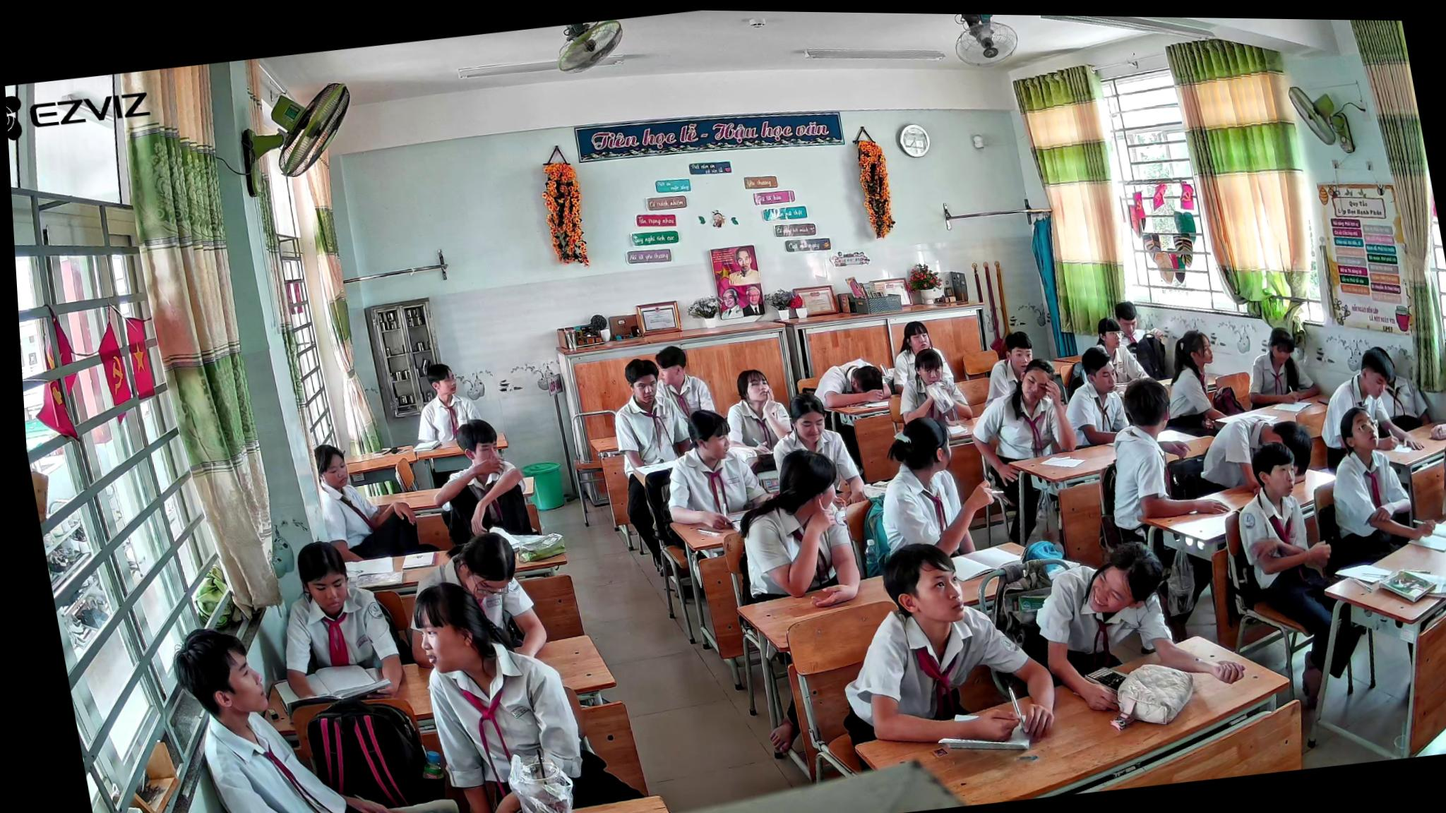person: (163, 601, 467, 813), (401, 561, 647, 813), (813, 528, 1066, 765), (1003, 530, 1253, 725), (1219, 434, 1360, 696), (1087, 369, 1244, 570), (957, 354, 1096, 545), (262, 531, 411, 708), (1296, 398, 1445, 574), (598, 353, 716, 572), (722, 442, 867, 616), (389, 526, 553, 673), (862, 409, 1014, 567), (650, 401, 781, 544), (307, 431, 442, 566), (420, 413, 540, 550), (1306, 341, 1428, 472), (1162, 408, 1321, 506), (761, 386, 871, 518), (807, 355, 908, 491), (402, 359, 495, 488), (1150, 327, 1235, 442), (716, 365, 800, 469), (885, 342, 979, 432), (1056, 344, 1133, 450), (1236, 322, 1326, 412), (880, 316, 959, 405), (970, 330, 1047, 410), (654, 341, 718, 428), (1110, 297, 1172, 383), (1088, 312, 1151, 389), (1381, 342, 1434, 432)
